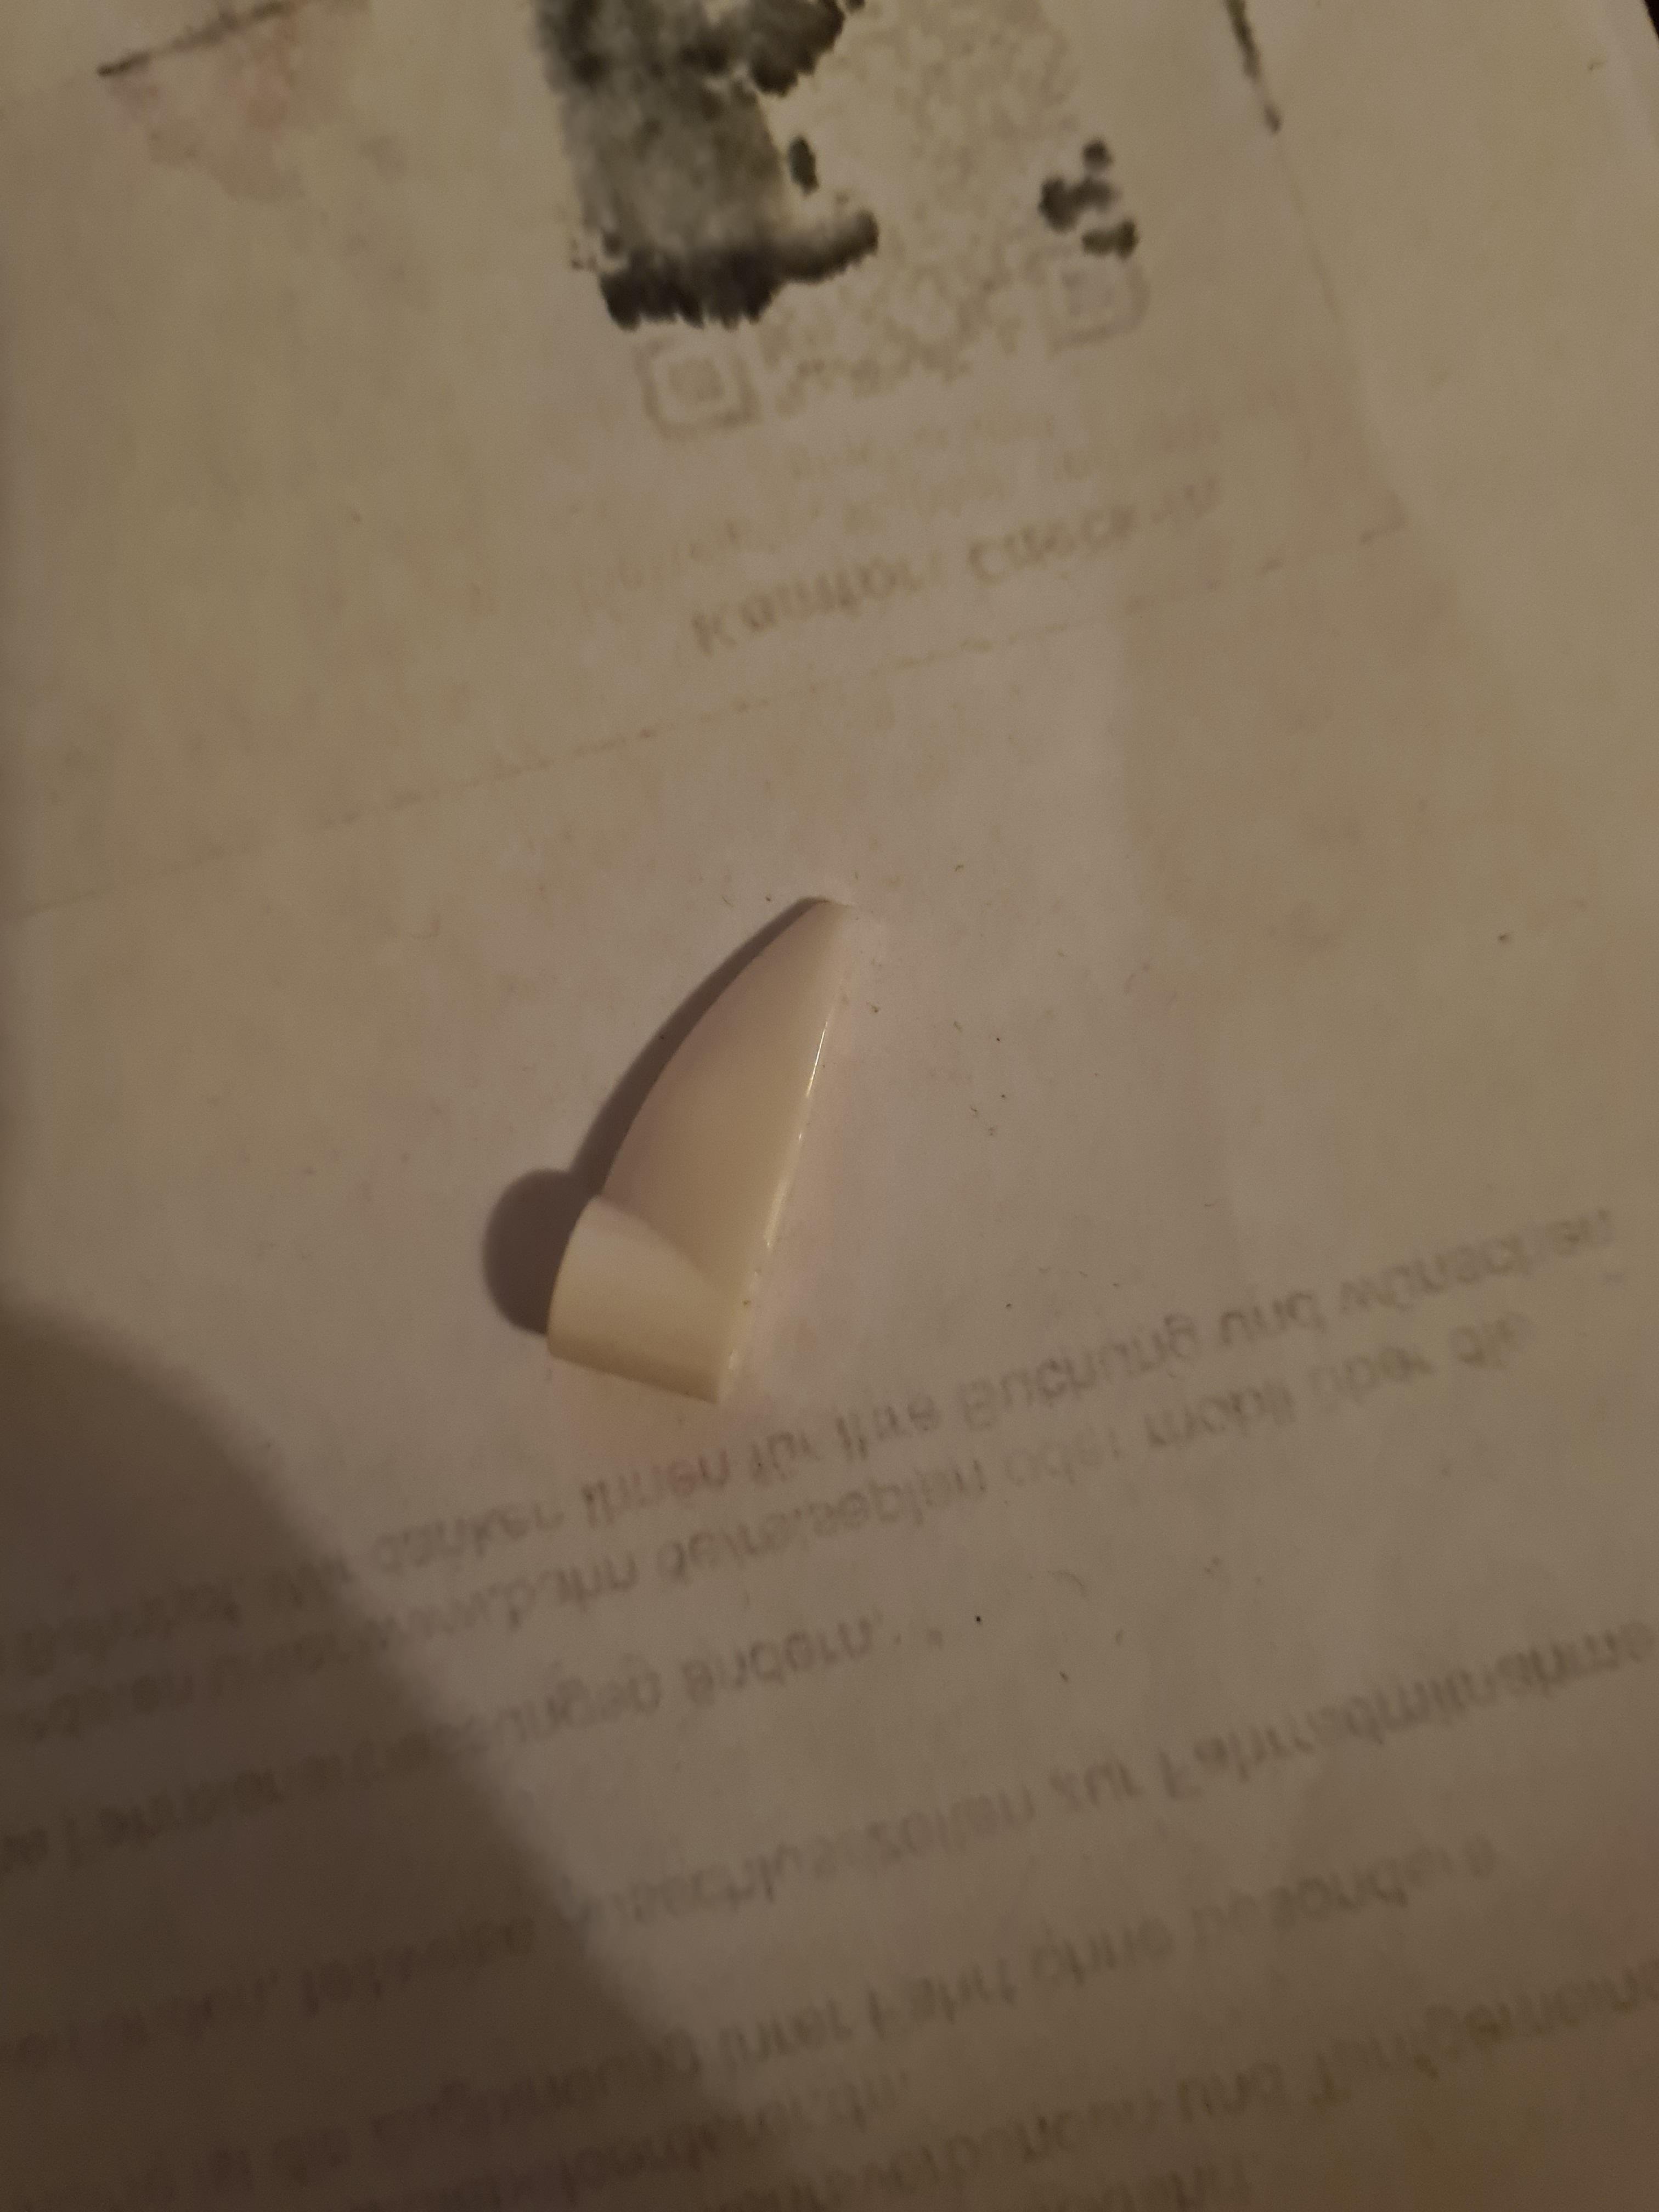Kappe: (523, 876, 871, 1430)
